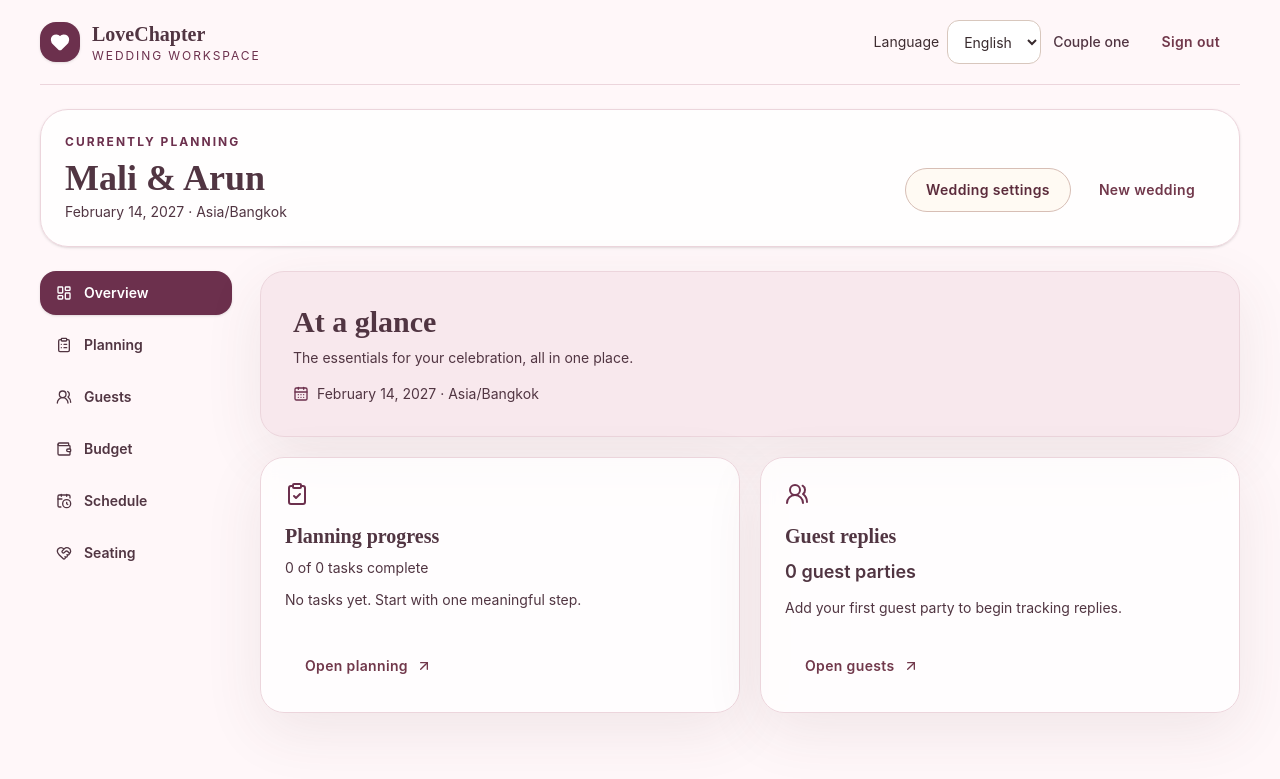
CoupleWorkspace › reloads the bounded overview summaries after visiting Guests
Expected: the text "0 guest parties" is shown, [785,561,916,582]
Click the button "Guests".
click(136, 397)  # box [40,375,232,419]
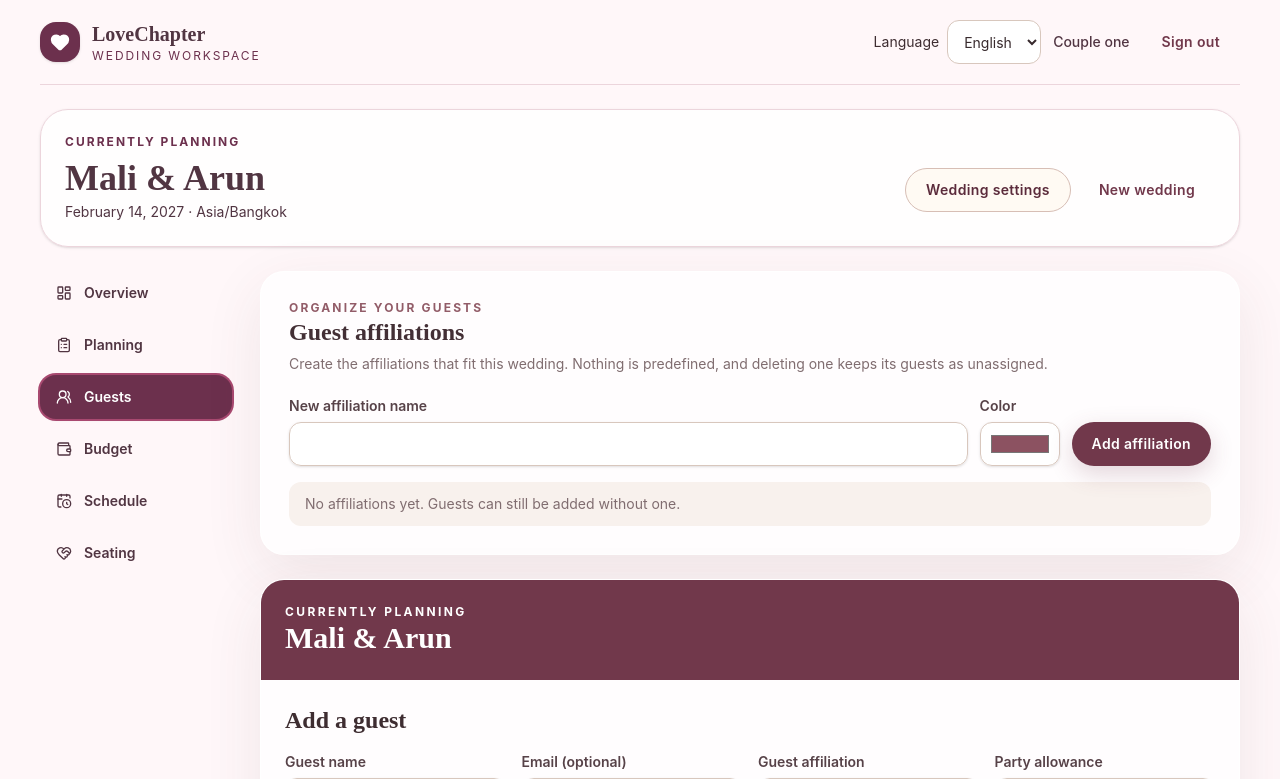
Click the button "Overview".
click(136, 293)  # box [40,271,232,315]
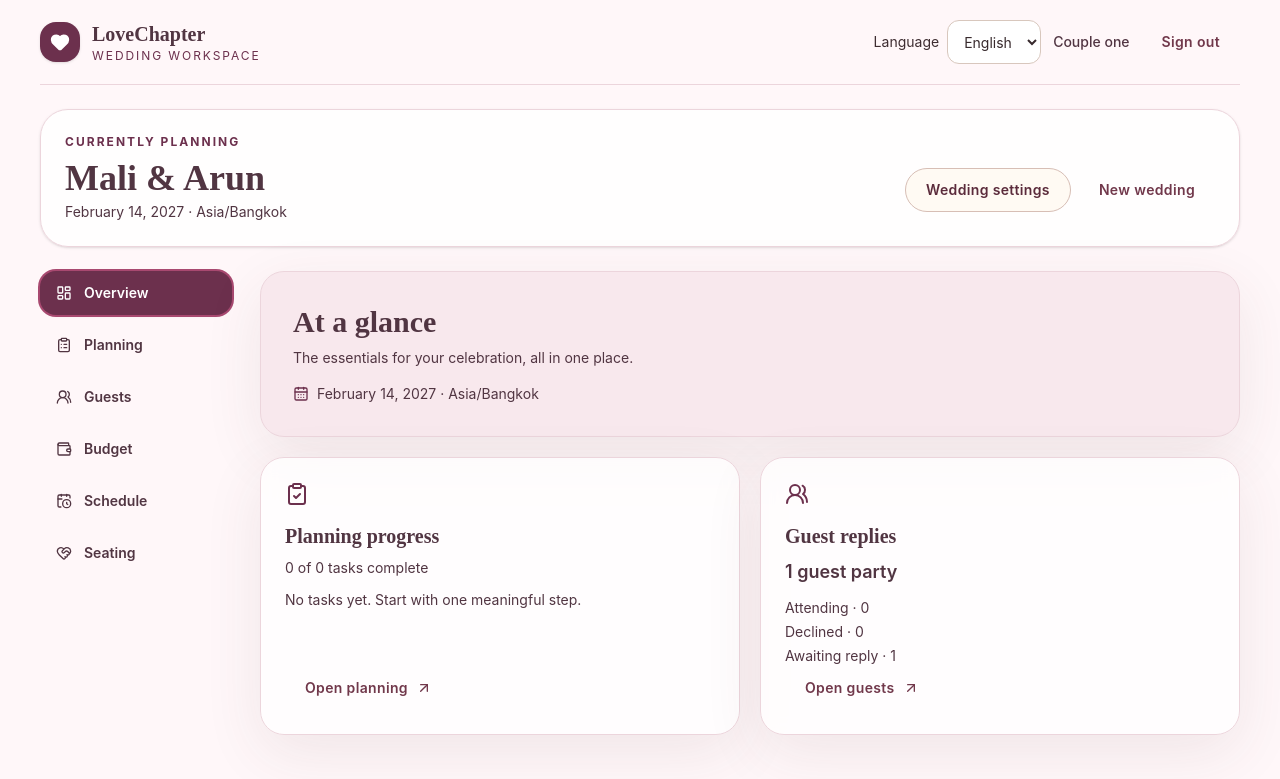
Expected: the text "1 guest party" is shown, [785,561,897,582]
